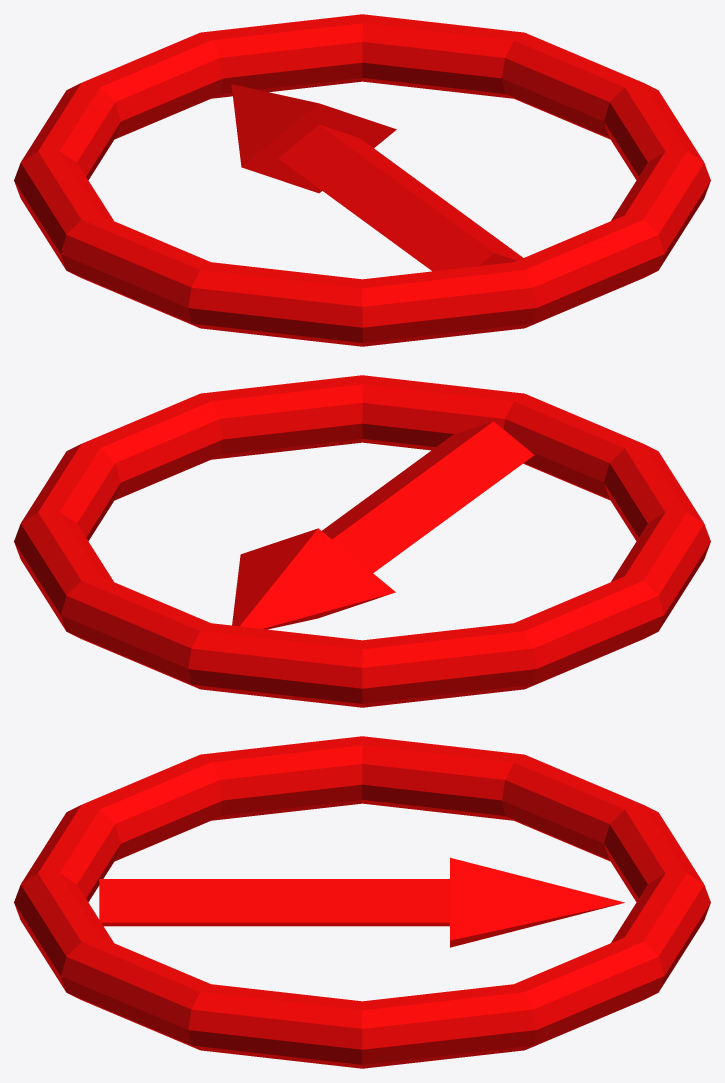
The model's file is spawnPoint.dae.
3 renders of one model, top to bottom at view 1: azimuth 30°, elevation 25°; view 2: azimuth 150°, elevation 25°; view 3: azimuth 270°, elevation 25°, orthographic.
Visible parts, largest first — view 1: torus; view 2: torus; view 3: torus.
Boxes of the visible parts, x1,y1,x2,y2 form: torus: [14, 14, 710, 346]; torus: [14, 375, 710, 707]; torus: [14, 736, 710, 1068].
Bounding box in the file's own units: 49.9 × 49.9 × 7.12.
